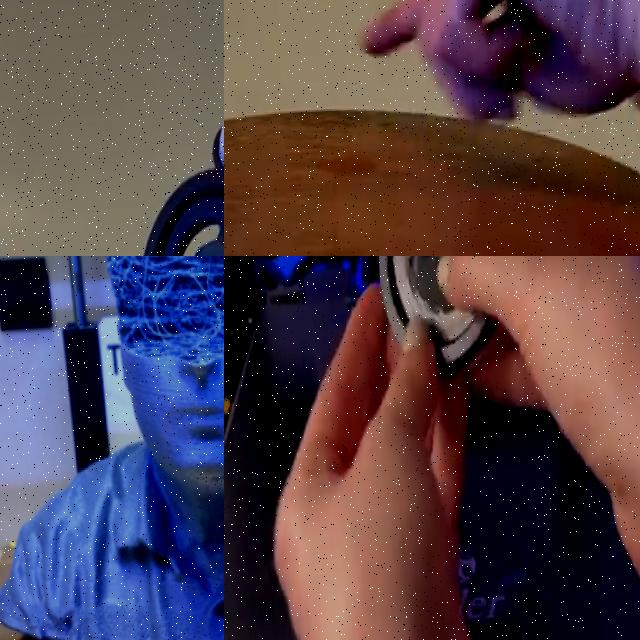spaghetti: (99, 256, 224, 346)
